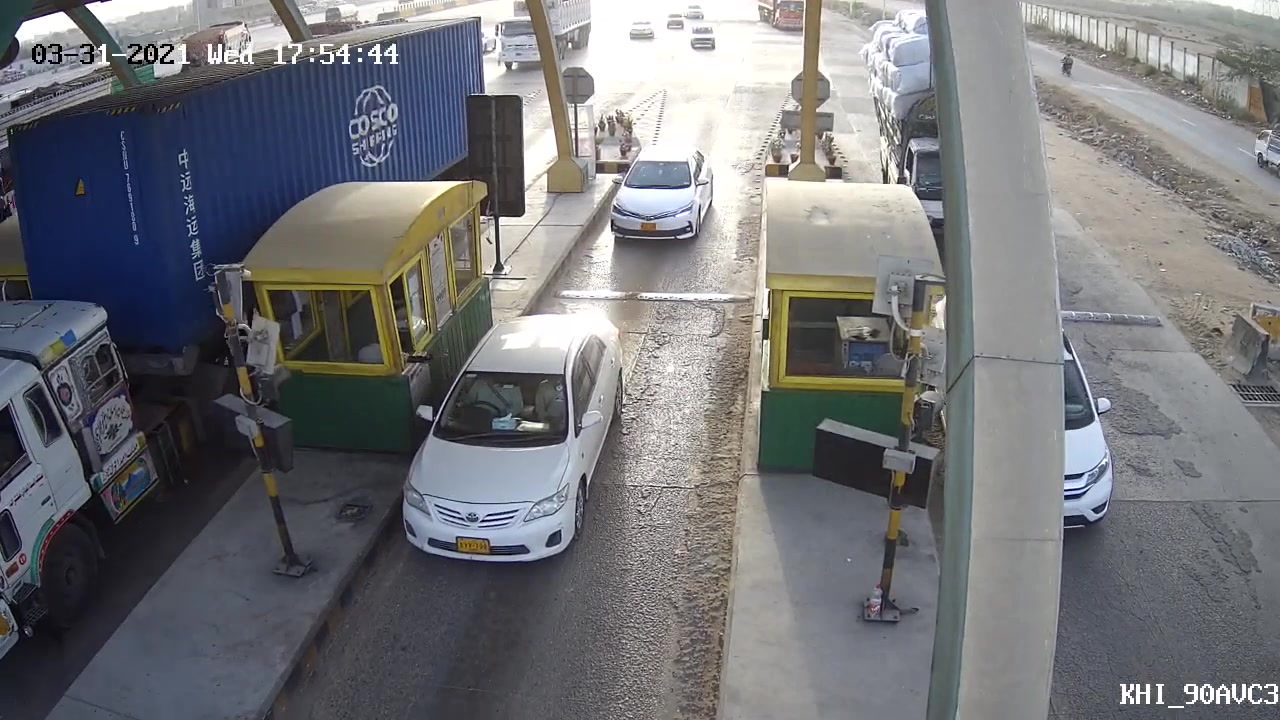F1: (394, 311, 638, 568), (606, 142, 717, 245)
